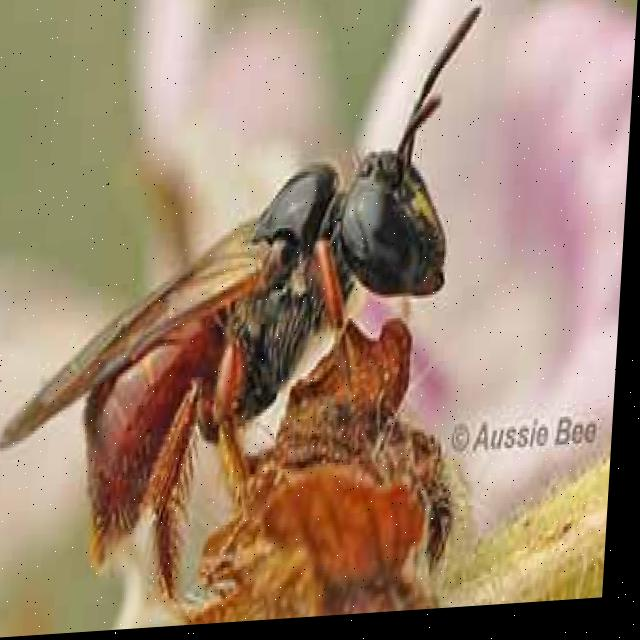Allodapula: (0, 0, 498, 601)
